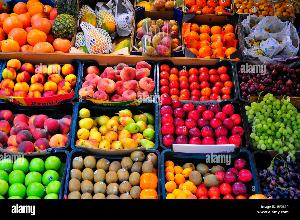apple: (0, 152, 70, 198)
apricot: (160, 158, 198, 204)
grape: (246, 95, 300, 153), (241, 18, 297, 58), (258, 152, 300, 204), (244, 63, 300, 98)
kiwi: (68, 152, 162, 202)
mango: (79, 2, 135, 54)
orange: (0, 1, 78, 55)
peach: (0, 98, 74, 152), (1, 62, 76, 94), (84, 64, 158, 96)
pear: (72, 102, 156, 150)
persimmon: (182, 18, 242, 56), (182, 1, 232, 15)
plum: (155, 96, 249, 150), (160, 64, 242, 104)
